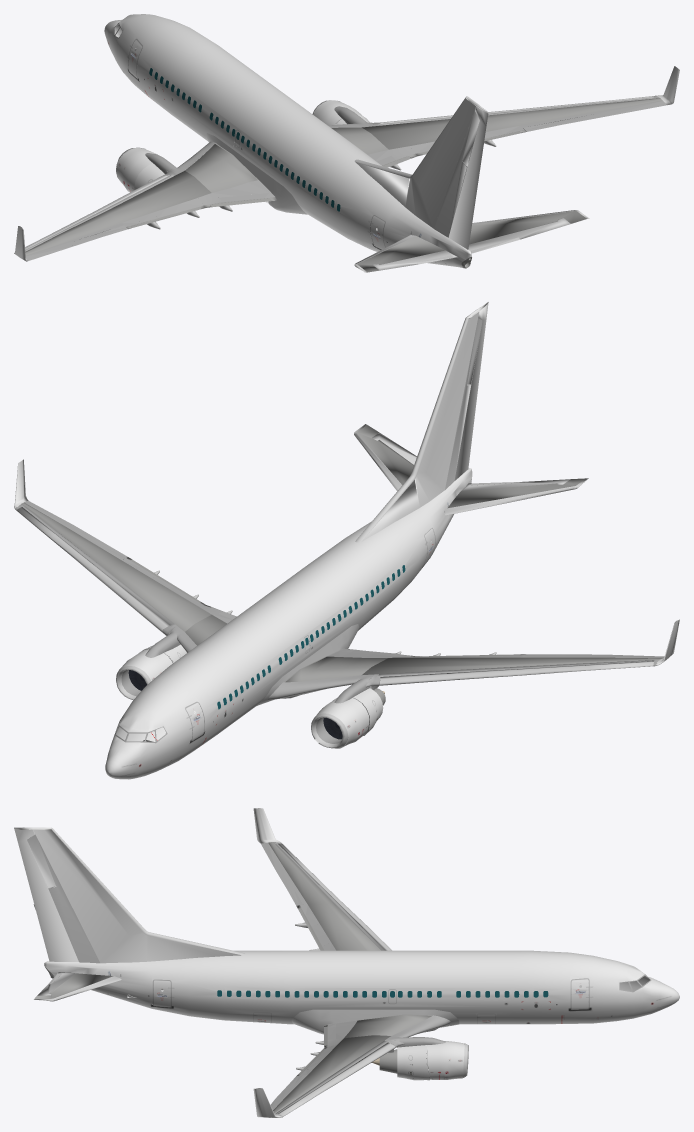
The picture shows the model from 3 angles, top to bottom: view 1: azimuth 30°, elevation 25°; view 2: azimuth 150°, elevation 25°; view 3: azimuth 270°, elevation 25°; orthographic projection. The views are drawn at different scales.
Parts seen in each view (by area): view 1: fuselage, vstab, obwing_001, obwing, rudder, winginbd, rhstab, lhstab, lhfairing, engnose_001, windowslh, panel1upper (+11 smaller); view 2: fuselage, vstab, obwing_001, obwing, lhstab, rhstab, winginbd, rudder, vstable, engnose_001, ible, lhfairing (+4 smaller); view 3: fuselage, vstab, obwing, rudder, obwing_001, rhwtobfairing, No2engfancase, winginbd_001, windowsrh, rhstab, No2reverser, vstable (+5 smaller).
Boxes of the visible parts, x1,y1,x2,y2 form: fuselage: (104,14,471,267); vstab: (355,96,488,237); obwing_001: (362,98,662,149); obwing: (25,170,211,255); rudder: (448,106,488,249); winginbd: (185,143,258,192); rhstab: (469,210,589,244); lhstab: (354,235,445,272); lhfairing: (205,133,307,214); engnose_001: (116,148,156,192); windowslh: (149,68,340,211); panel1upper: (198,180,275,205); fuselage: (105,468,472,779); vstab: (362,302,488,541); obwing_001: (21,502,211,631); obwing: (362,657,662,674); lhstab: (445,478,588,515); rhstab: (354,424,413,491); winginbd: (283,656,387,682); rudder: (454,304,488,480); vstable: (355,317,468,542); engnose_001: (316,698,369,748); ible: (268,674,375,700); lhfairing: (257,624,359,705); fuselage: (44,950,679,1024); vstab: (14,827,240,963); obwing: (268,842,380,950); rudder: (14,829,78,961); obwing_001: (273,1035,390,1113); rhwtobfairing: (291,1009,459,1034); No2engfancase: (427,1041,464,1079); winginbd_001: (344,1014,432,1037); windowsrh: (217,990,548,997); rhstab: (34,973,121,1001); No2reverser: (397,1045,429,1080); vstable: (51,827,245,955).
Bounding box in the file's own units: 34.85 × 12.08 × 34.93.
Materials: 50 (18 with a texture image).
